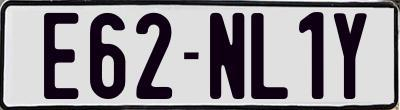1: (299, 11, 325, 99)
2: (135, 13, 175, 100)
6: (88, 12, 123, 101)
E: (44, 10, 81, 97)
L: (248, 11, 290, 97)
N: (208, 11, 244, 103)
Y: (334, 11, 371, 97)
